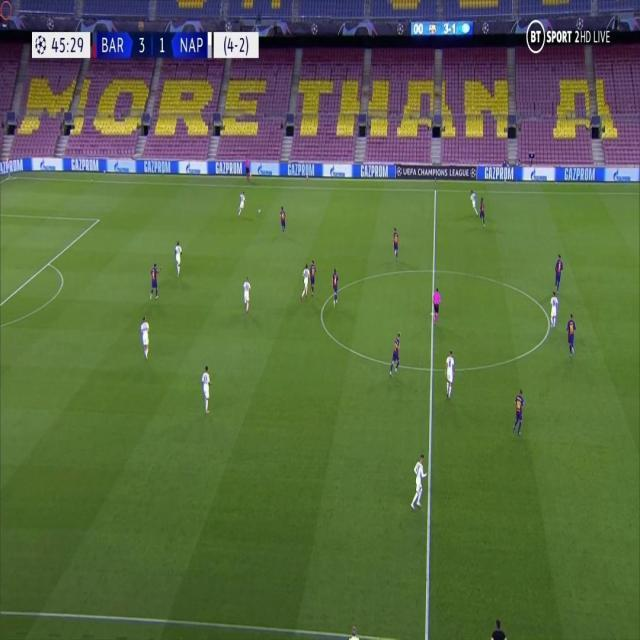ball: (258, 207, 262, 214)
player: (409, 452, 428, 511), (511, 386, 527, 436), (388, 329, 404, 378), (444, 346, 457, 400), (200, 363, 213, 414), (148, 261, 164, 302), (139, 313, 152, 361), (565, 311, 578, 357), (552, 251, 564, 292), (549, 291, 560, 332), (242, 273, 253, 313), (173, 237, 184, 277), (300, 262, 311, 300), (330, 265, 340, 305), (309, 258, 319, 297), (237, 188, 248, 219), (391, 225, 400, 260), (278, 203, 287, 234), (469, 188, 478, 218), (479, 195, 487, 228)
referee: (431, 285, 442, 326), (244, 153, 252, 184)
